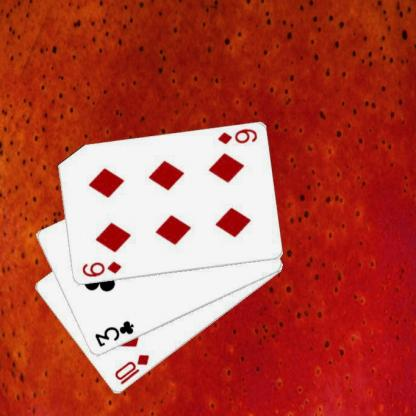10D: (112, 352, 150, 386)
3C: (91, 318, 135, 348)
6D: (78, 258, 122, 278), (215, 126, 258, 146)
